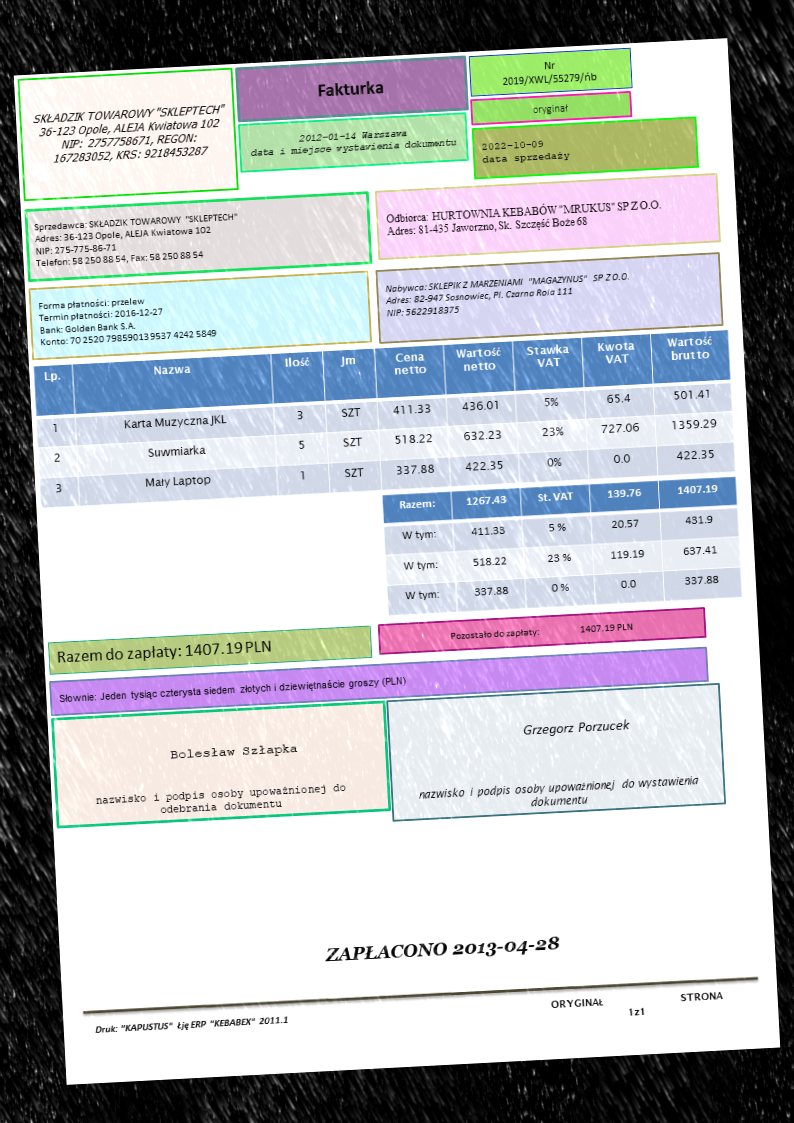Table: (32, 327, 736, 510), (381, 473, 744, 617)
TextBox: (382, 268, 633, 321), (30, 100, 231, 166), (31, 208, 242, 270), (416, 772, 702, 817), (382, 194, 664, 239), (56, 672, 408, 706), (34, 288, 219, 349), (92, 780, 349, 819), (321, 931, 563, 970), (248, 123, 459, 161), (53, 635, 273, 667), (547, 986, 728, 1024), (92, 1011, 291, 1038), (446, 618, 636, 644), (166, 738, 298, 765), (499, 54, 597, 90), (478, 136, 573, 168), (520, 715, 632, 738), (313, 77, 386, 100), (530, 101, 571, 117)
